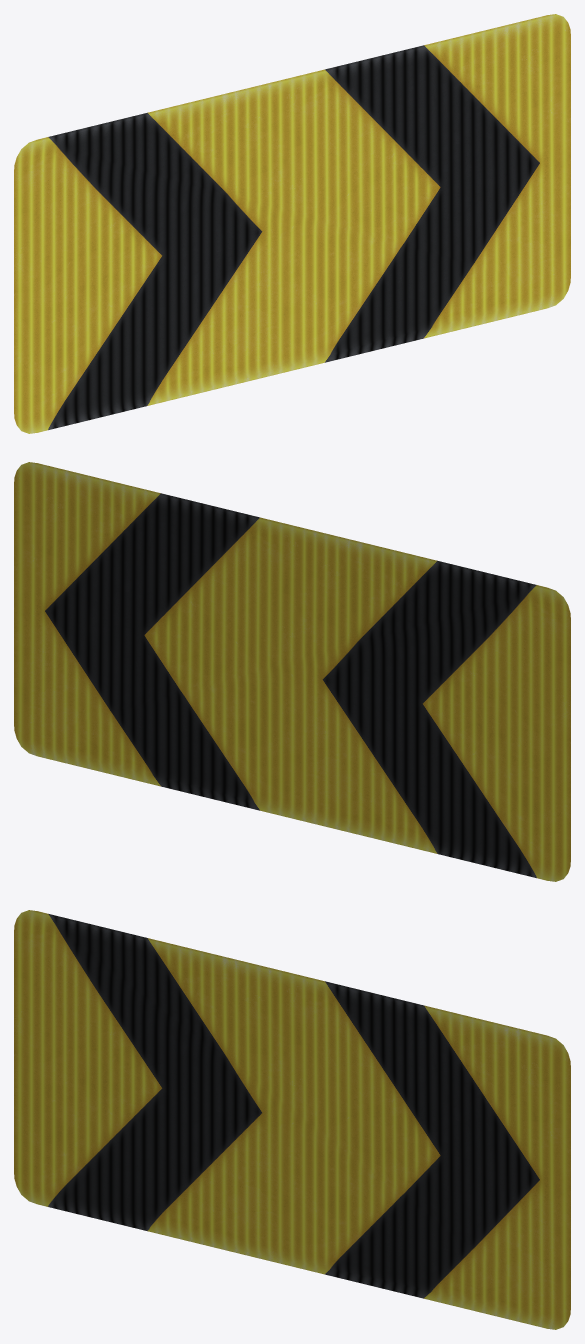
File: RoadSign03ContinuousTurn.fbx
The picture shows the model from 3 angles, top to bottom: view 1: azimuth 30°, elevation 25°; view 2: azimuth 150°, elevation 25°; view 3: azimuth 330°, elevation 25°; orthographic projection.
Parts seen in each view (by area): view 1: Polygonal_Geometry; view 2: Polygonal_Geometry; view 3: Polygonal_Geometry.
Boxes of the visible parts, bbox=[...] form: Polygonal_Geometry: bbox=[14, 14, 570, 433]; Polygonal_Geometry: bbox=[14, 462, 570, 881]; Polygonal_Geometry: bbox=[14, 910, 570, 1329].
Size of the model in its own units: 6.66 by 3.35 by 0.
